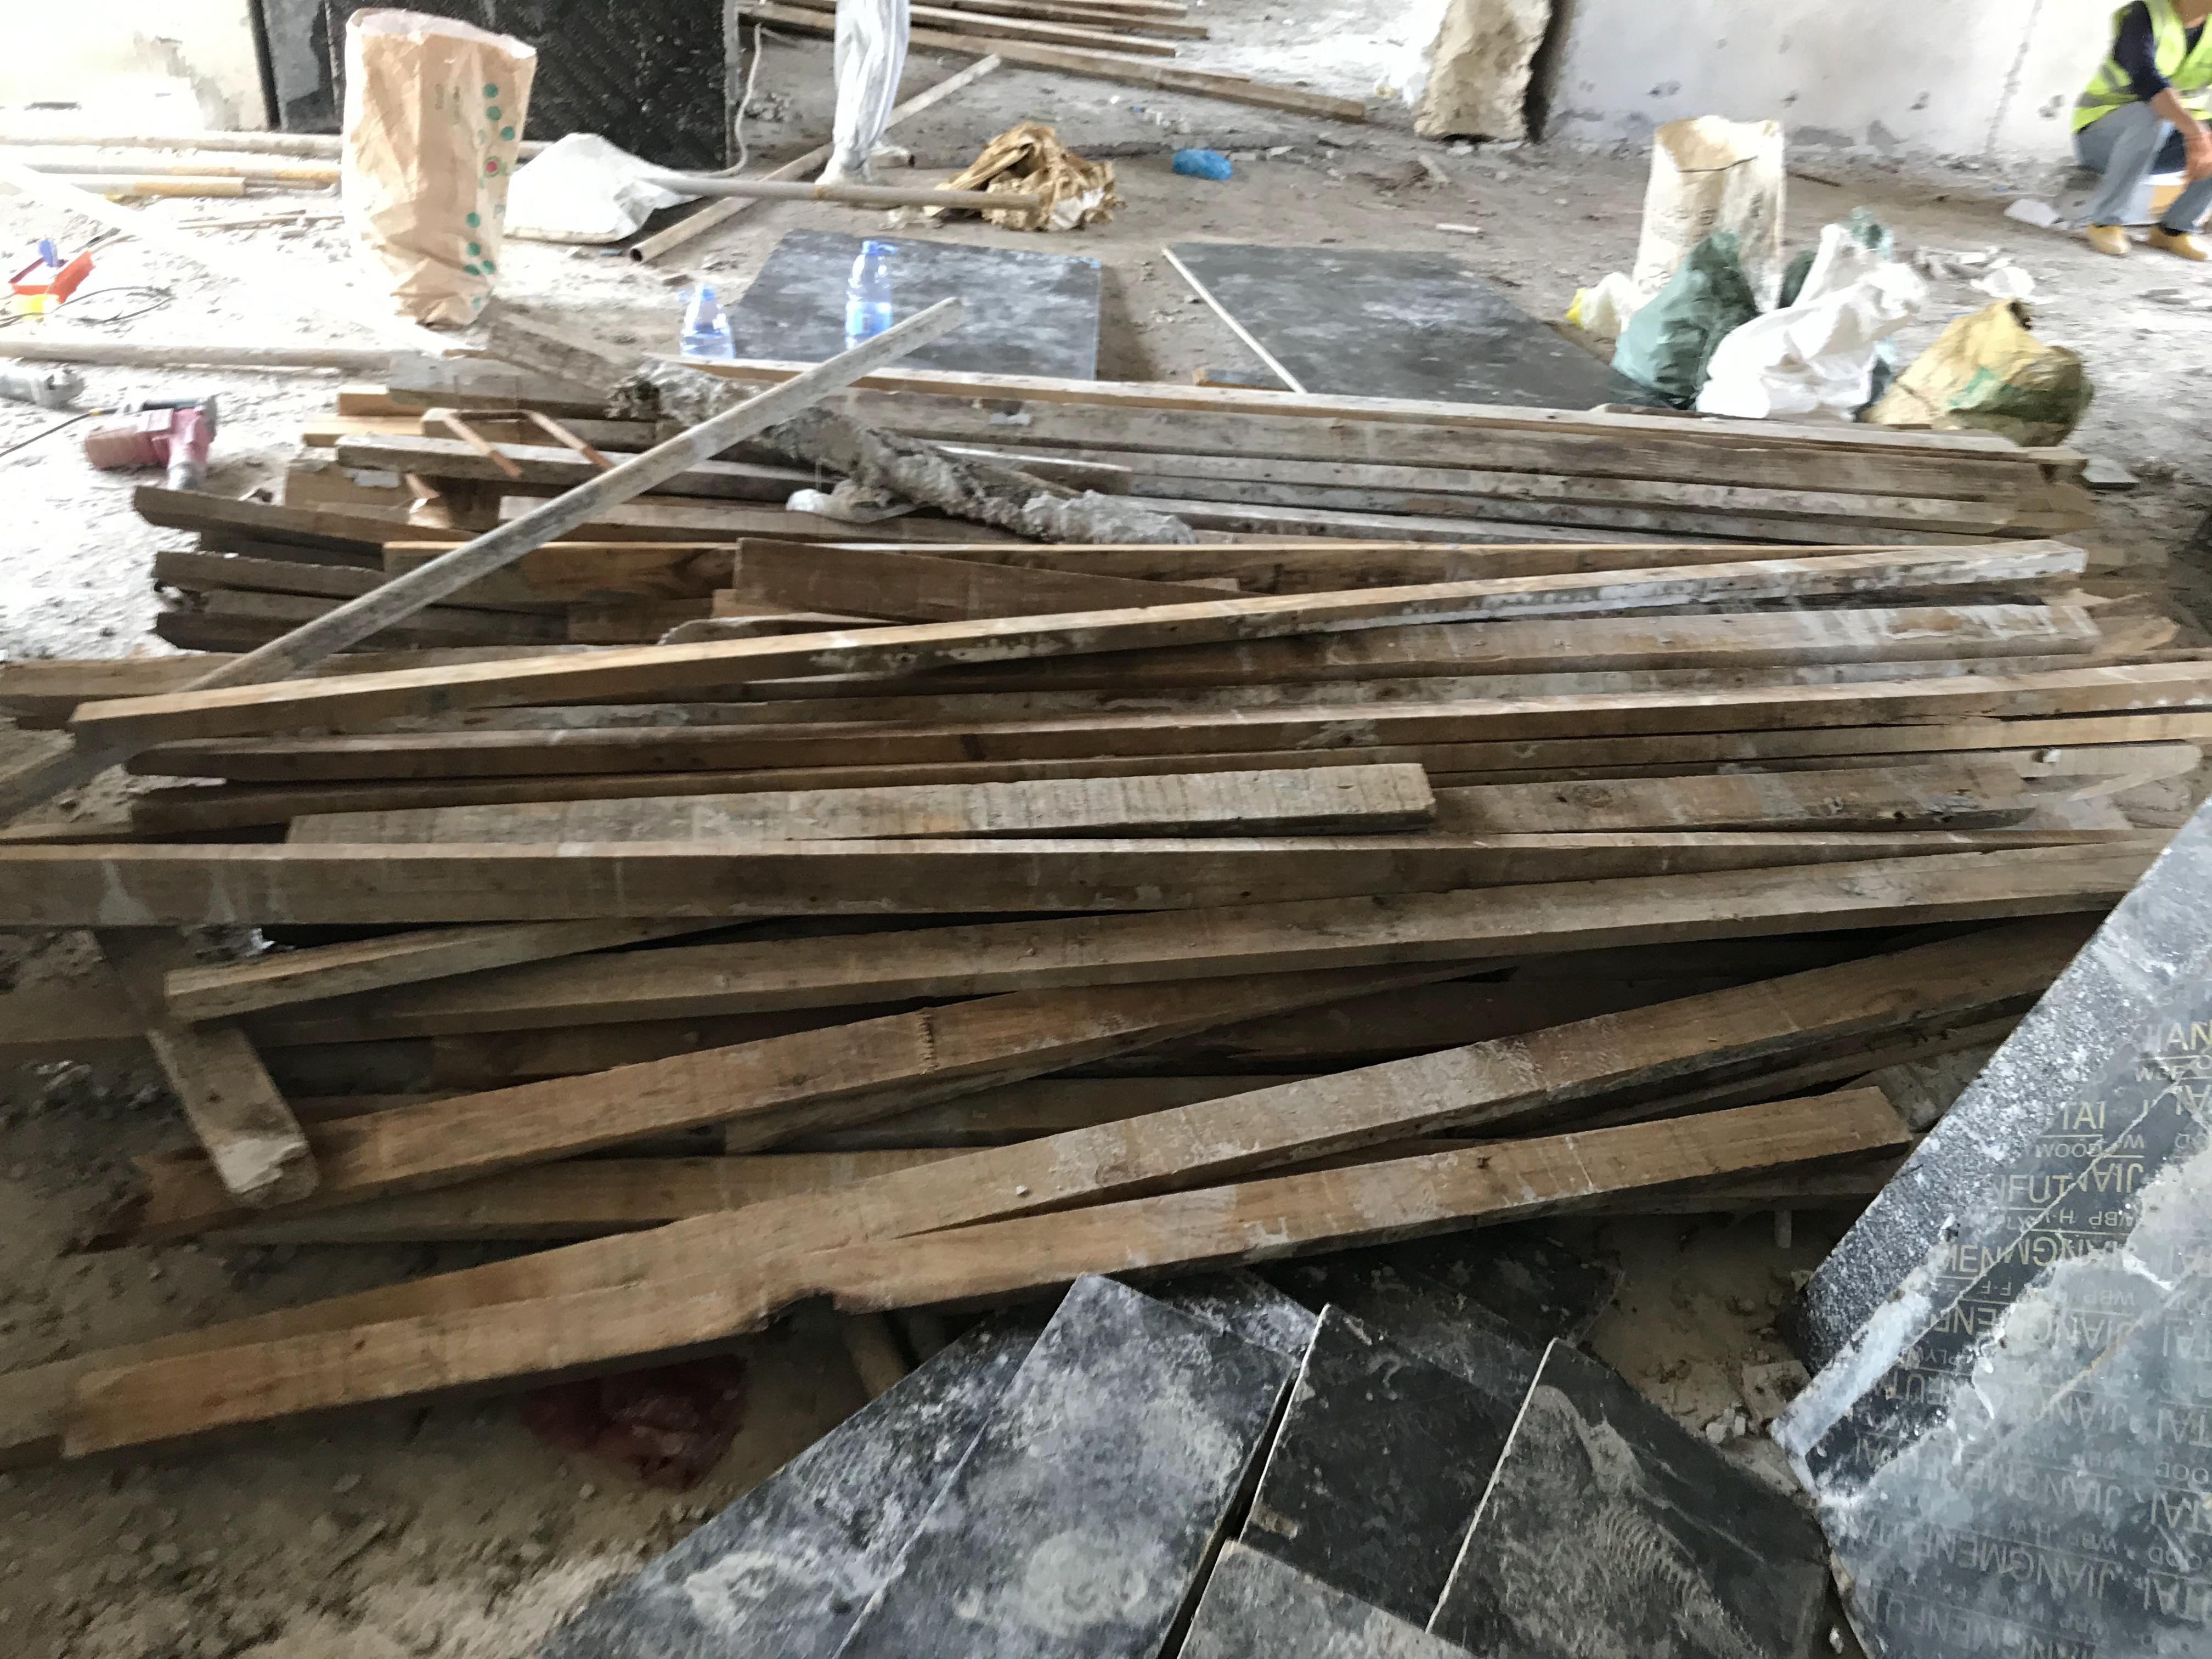vest: (2069, 0, 2212, 134)
wood: (0, 429, 2207, 1459)
